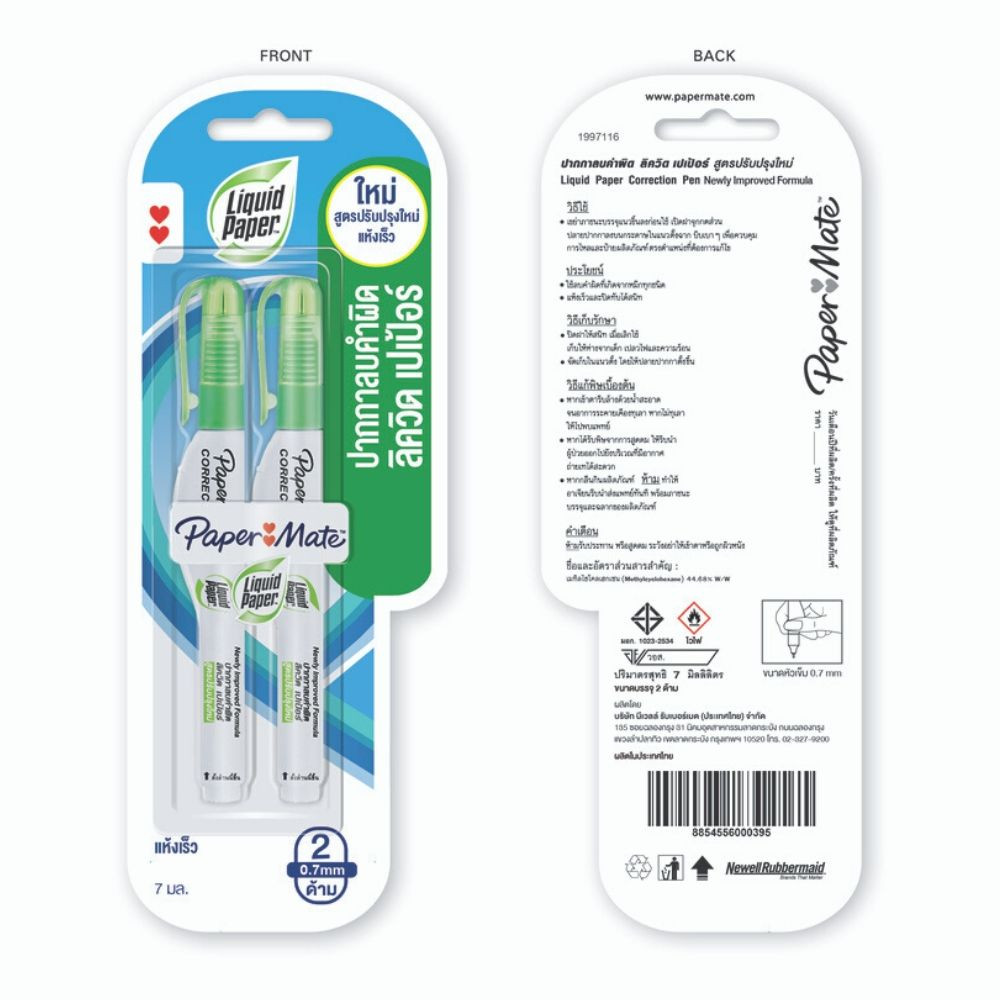Correction_fluid: (166, 269, 252, 810), (248, 273, 332, 807)
